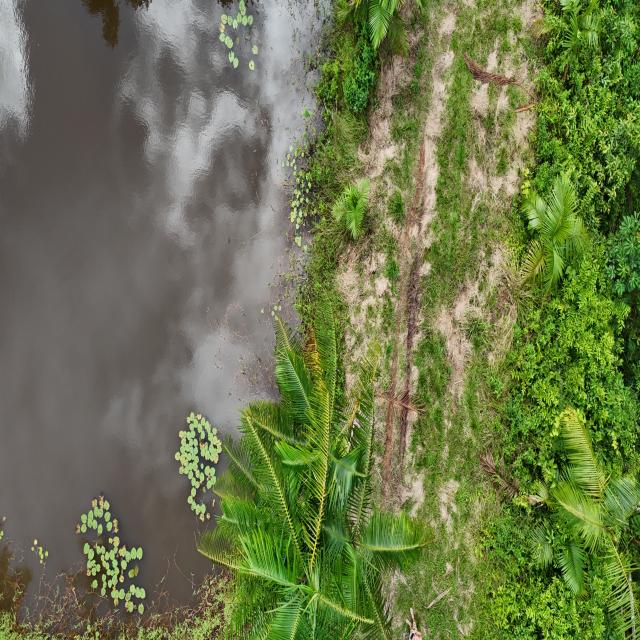vegetation: (186, 291, 436, 638)
